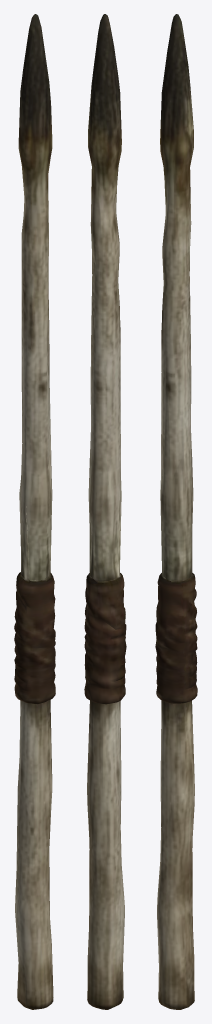
3 renders of one model, left to right at view 1: azimuth 30°, elevation 25°; view 2: azimuth 150°, elevation 25°; view 3: azimuth 330°, elevation 25°, orthographic.
Parts seen in each view (by area): view 1: wooden-spear; view 2: wooden-spear; view 3: wooden-spear.
Part boxes in pixels (<box>): wooden-spear: <box>14,14,55,1009</box>; wooden-spear: <box>84,14,126,1009</box>; wooden-spear: <box>155,14,197,1009</box>.
Bounding box in the file's own units: 0.0624 × 1.61 × 0.0585.
1 material, 1 textured.
